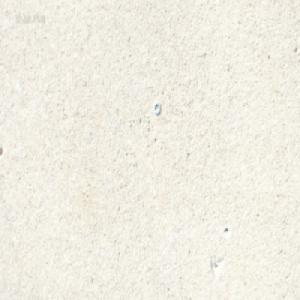Washer: (153, 100, 160, 115)
